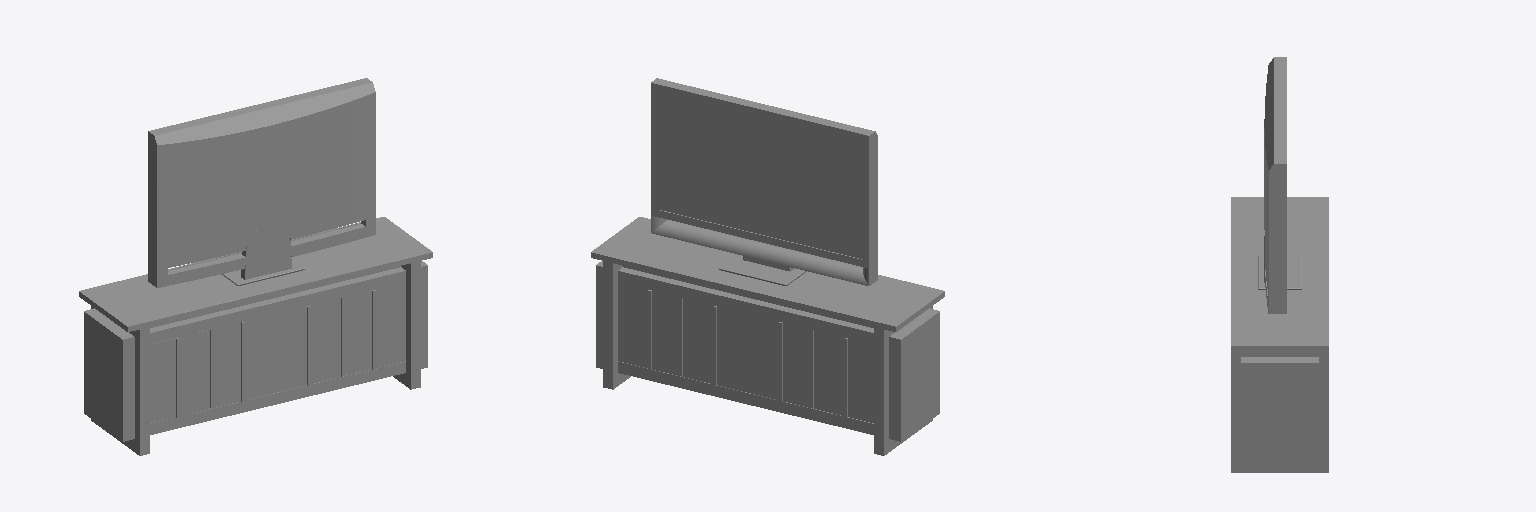
3 views of the same model, side by side, from view 1: azimuth 30°, elevation 25°; view 2: azimuth 150°, elevation 25°; view 3: azimuth 270°, elevation 25° (orthographic).
Visible parts, largest first — view 1: _5inch_LCD_LCD, B9-Melrose_Plasma_Cabinet_Wood_Texture_Main_Cabinet_Body_Cabine, B9-Melrose_Plasma_Cabinet_Granite_Top, B9-Melrose_Plasma_Cabinet_Wood_Texture_Doors_doors3, B9-Melrose_Plasma_Cabinet_Wood_Texture_Doors_doors, B9-Melrose_Plasma_Cabinet_Wood_Texture_Doors_doors4, B9-Melrose_Plasma_Cabinet_Wood_Texture_Doors_doors2, _5inch_LCD_Stand, B9-Melrose_Plasma_Cabinet_end, B9-Melrose_Plasma_Cabinet_end1; view 2: _5inch_LCD_Screen, B9-Melrose_Plasma_Cabinet_Wood_Texture_Main_Cabinet_Body_Cabine, B9-Melrose_Plasma_Cabinet_Granite_Top, _5inch_LCD_LCD, B9-Melrose_Plasma_Cabinet_Wood_Texture_Doors_doors3, B9-Melrose_Plasma_Cabinet_Wood_Texture_Doors_doors, B9-Melrose_Plasma_Cabinet_Wood_Texture_Doors_doors4, B9-Melrose_Plasma_Cabinet_Wood_Texture_Doors_doors2, _5inch_LCD_Speakers, B9-Melrose_Plasma_Cabinet_end, B9-Melrose_Plasma_Cabinet_end1, _5inch_LCD_Stand; view 3: B9-Melrose_Plasma_Cabinet_Granite_Top, B9-Melrose_Plasma_Cabinet_Wood_Texture_Main_Cabinet_Body_Cabine, _5inch_LCD_LCD, B9-Melrose_Plasma_Cabinet_end1, _5inch_LCD_Stand.
Part boxes in pixels (left/top/right/bottom): _5inch_LCD_LCD: left=148, top=78, right=375, bottom=287; B9-Melrose_Plasma_Cabinet_Wood_Texture_Main_Cabinet_Body_Cabine: left=84, top=261, right=427, bottom=441; B9-Melrose_Plasma_Cabinet_Granite_Top: left=79, top=217, right=432, bottom=331; B9-Melrose_Plasma_Cabinet_Wood_Texture_Doors_doors3: left=276, top=298, right=340, bottom=392; B9-Melrose_Plasma_Cabinet_Wood_Texture_Doors_doors: left=341, top=282, right=405, bottom=376; B9-Melrose_Plasma_Cabinet_Wood_Texture_Doors_doors4: left=210, top=314, right=275, bottom=408; B9-Melrose_Plasma_Cabinet_Wood_Texture_Doors_doors2: left=150, top=330, right=209, bottom=423; _5inch_LCD_Stand: left=221, top=222, right=305, bottom=285; B9-Melrose_Plasma_Cabinet_end: left=91, top=306, right=149, bottom=455; B9-Melrose_Plasma_Cabinet_end1: left=393, top=261, right=420, bottom=389; _5inch_LCD_Screen: left=658, top=92, right=861, bottom=258; B9-Melrose_Plasma_Cabinet_Wood_Texture_Main_Cabinet_Body_Cabine: left=596, top=261, right=939, bottom=441; B9-Melrose_Plasma_Cabinet_Granite_Top: left=591, top=217, right=944, bottom=331; _5inch_LCD_LCD: left=651, top=78, right=877, bottom=285; B9-Melrose_Plasma_Cabinet_Wood_Texture_Doors_doors3: left=683, top=298, right=747, bottom=392; B9-Melrose_Plasma_Cabinet_Wood_Texture_Doors_doors: left=618, top=282, right=682, bottom=376; B9-Melrose_Plasma_Cabinet_Wood_Texture_Doors_doors4: left=748, top=314, right=813, bottom=408; B9-Melrose_Plasma_Cabinet_Wood_Texture_Doors_doors2: left=814, top=330, right=873, bottom=422; _5inch_LCD_Speakers: left=651, top=216, right=868, bottom=285; B9-Melrose_Plasma_Cabinet_end: left=874, top=306, right=932, bottom=455; B9-Melrose_Plasma_Cabinet_end1: left=603, top=261, right=630, bottom=389; _5inch_LCD_Stand: left=718, top=239, right=806, bottom=285; B9-Melrose_Plasma_Cabinet_Granite_Top: left=1231, top=197, right=1328, bottom=351; B9-Melrose_Plasma_Cabinet_Wood_Texture_Main_Cabinet_Body_Cabine: left=1241, top=357, right=1318, bottom=464; _5inch_LCD_LCD: left=1264, top=57, right=1286, bottom=313; B9-Melrose_Plasma_Cabinet_end1: left=1231, top=352, right=1328, bottom=472; _5inch_LCD_Stand: left=1258, top=230, right=1301, bottom=289.
Bounding box in the file's own units: 3.6 × 3.33 × 1.